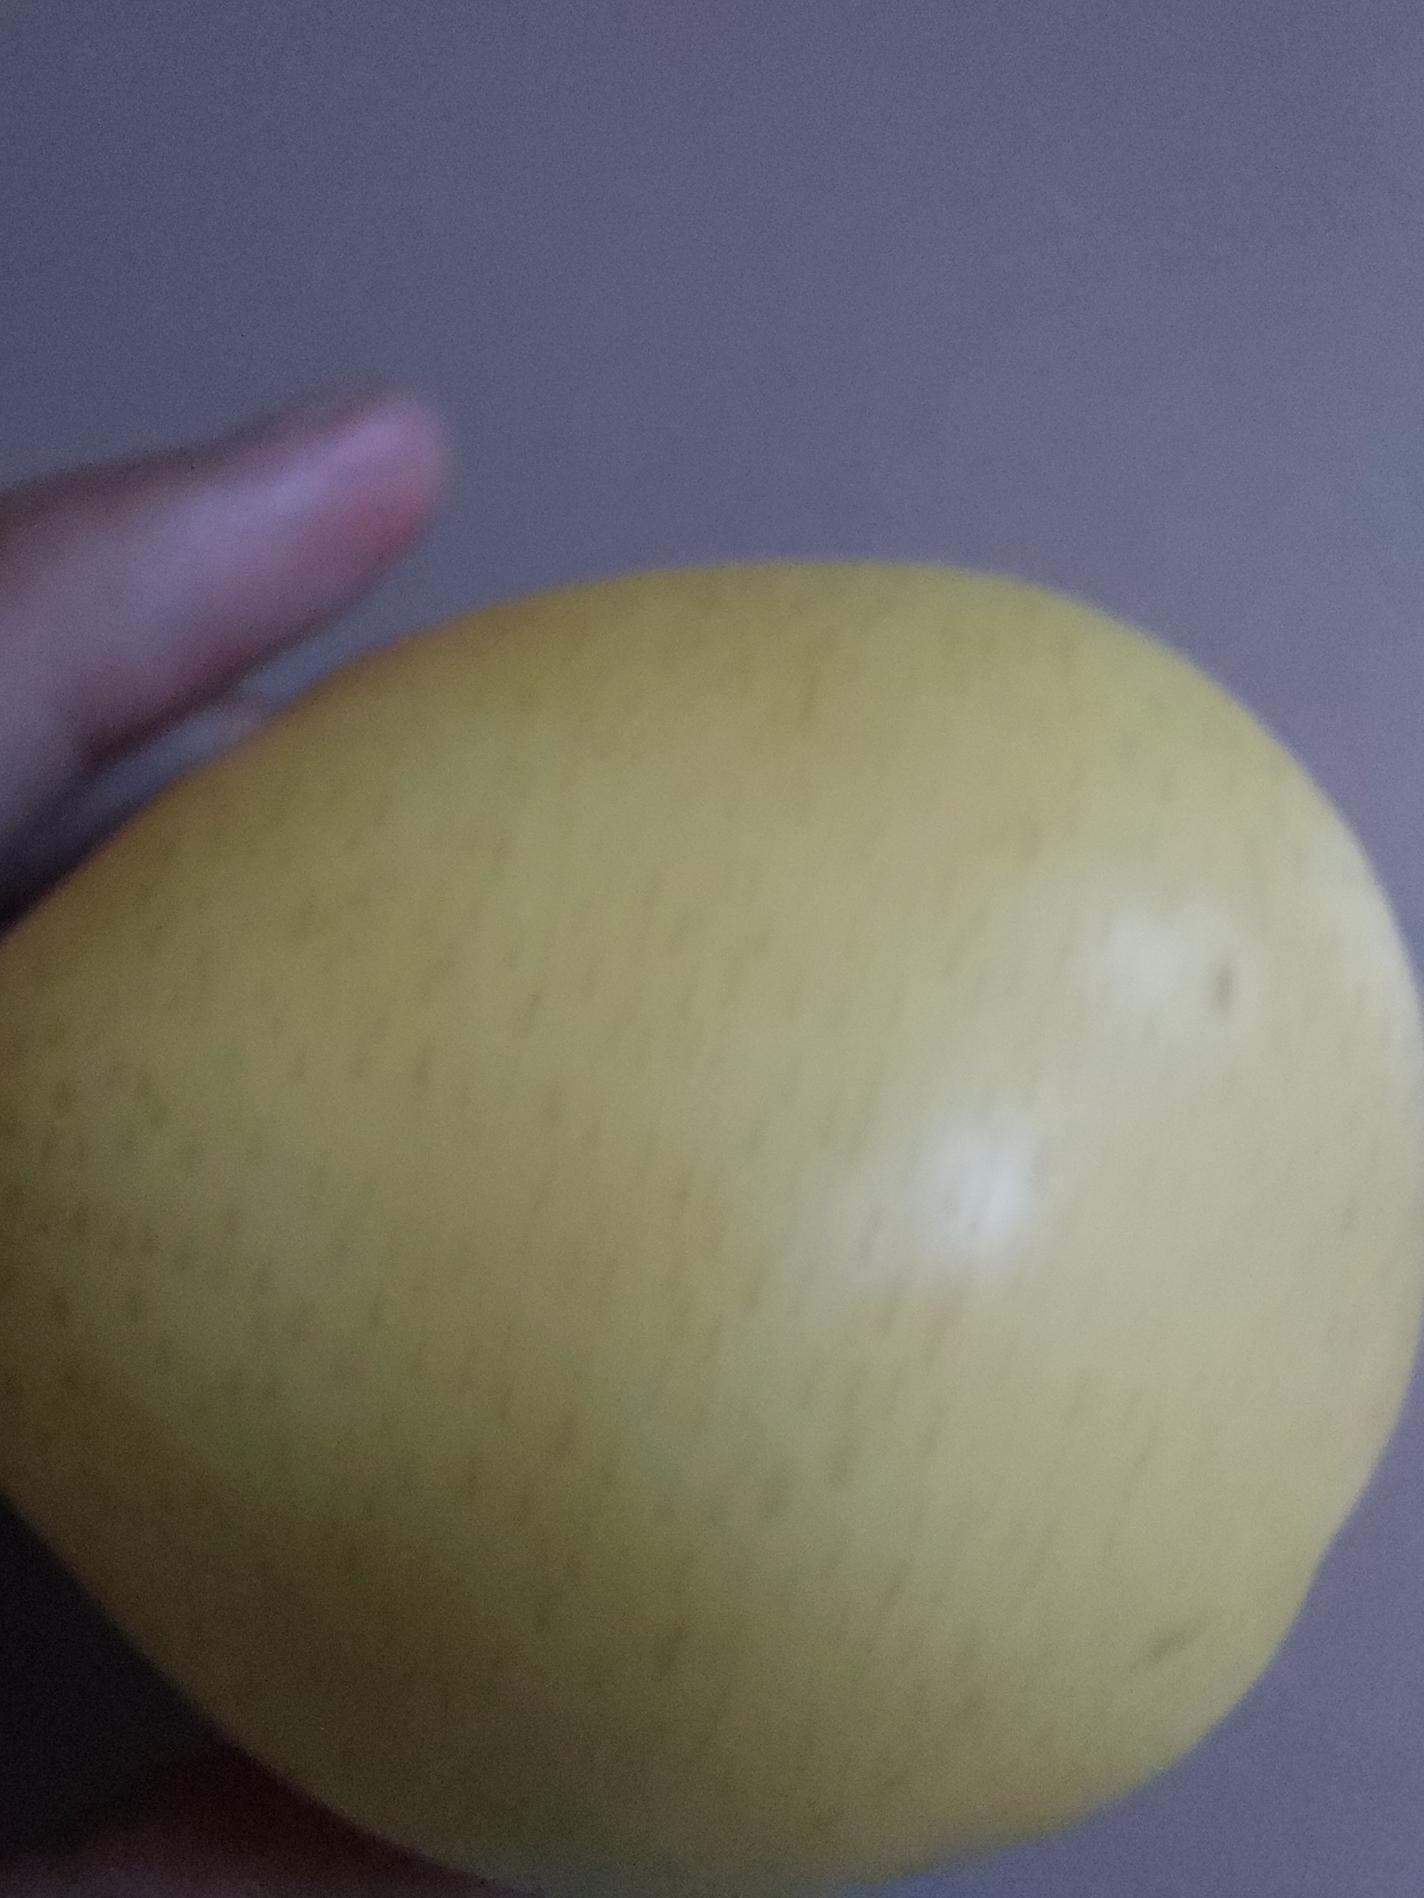Good Pear: (360, 510, 1424, 1883)
